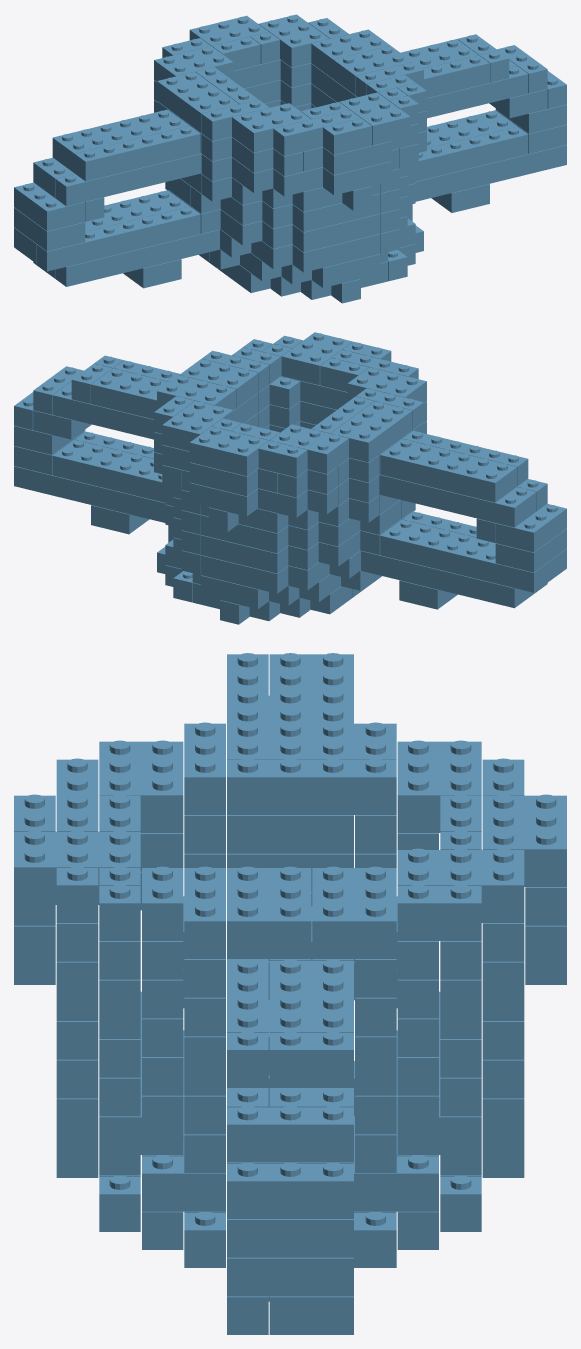
File: collab_pot-L2V1_raw.glb
3 renders of one model, top to bottom at view 1: azimuth 30°, elevation 25°; view 2: azimuth 150°, elevation 25°; view 3: azimuth 270°, elevation 25°, orthographic. The views are drawn at different scales.
Bounding box in the file's own units: 26.98 × 9.13 × 12.98.
